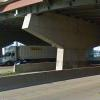Bridge: (5, 0, 100, 57)
